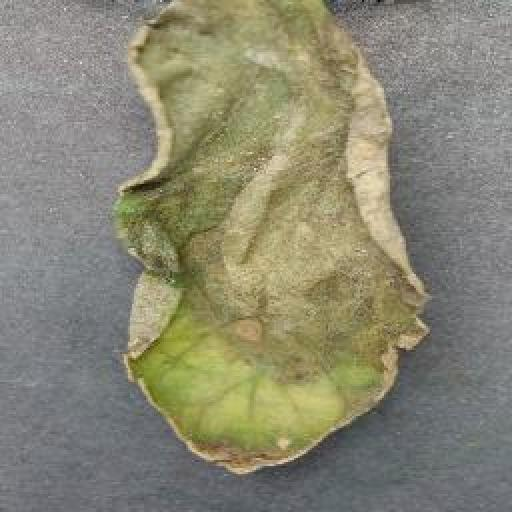disease_tomato: (106, 0, 428, 478)
